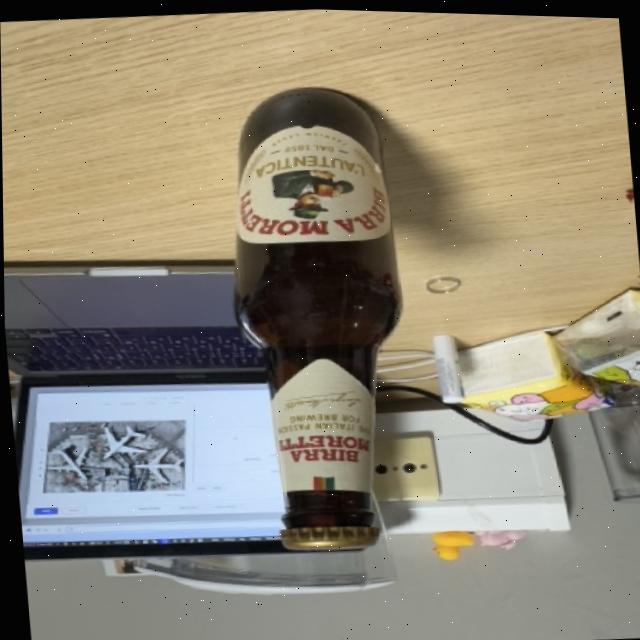beer: (209, 67, 436, 570)
